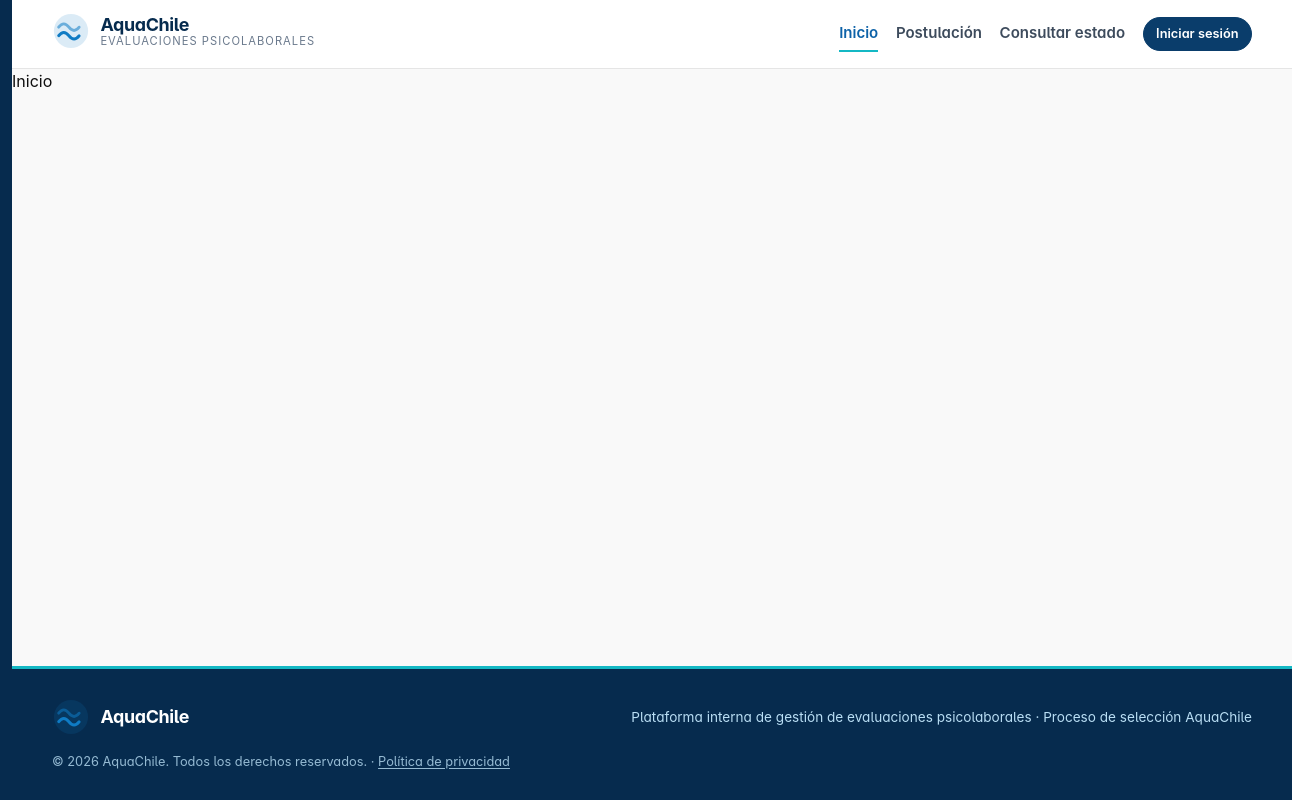
Test: AppLayout › navega entre rutas manteniendo el marco
This screenshot has width=1292, height=800.
Step 1. Click the link with class "enlace-nav" showing "Postulación" → x=939, y=32, box [896,23,982,42]
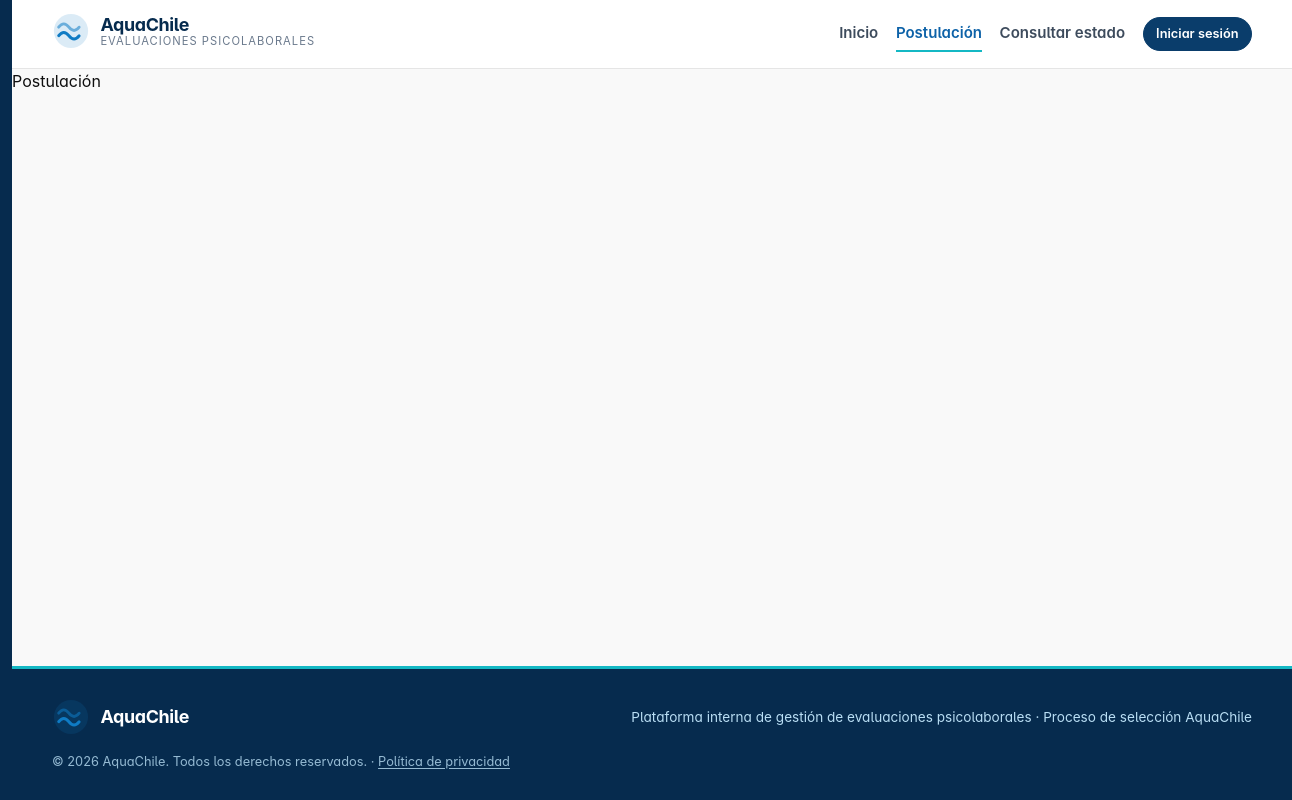
Expected: the header with class "barra-nav" is shown, [12,0,1291,69]
Now the text "Postulación" is shown, box [12,71,101,91]
